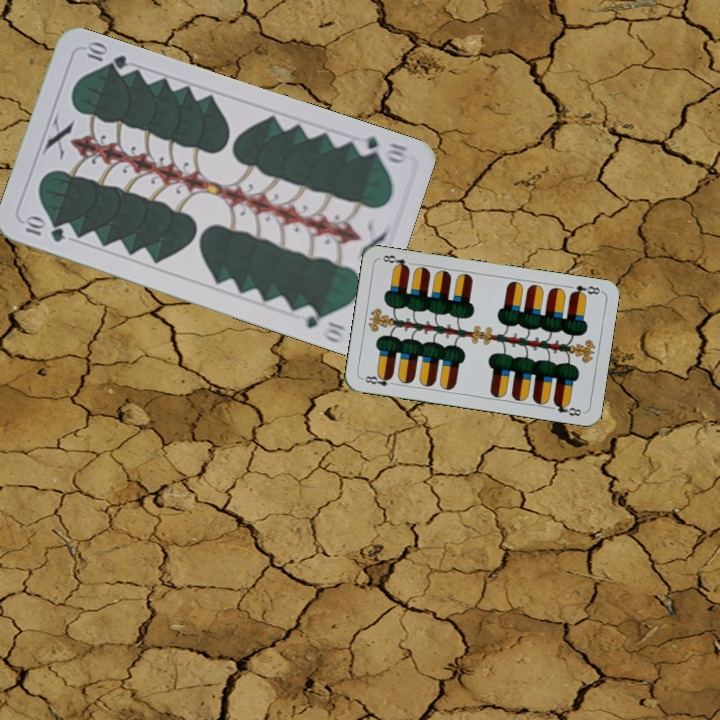E8: (359, 370, 399, 389), (566, 281, 604, 300)
G10: (350, 132, 410, 166), (19, 213, 68, 245)
